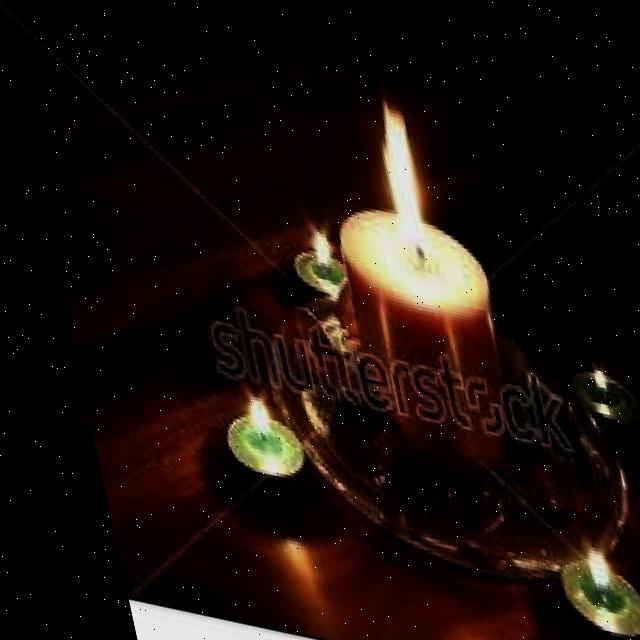Fire: (356, 74, 450, 258)
